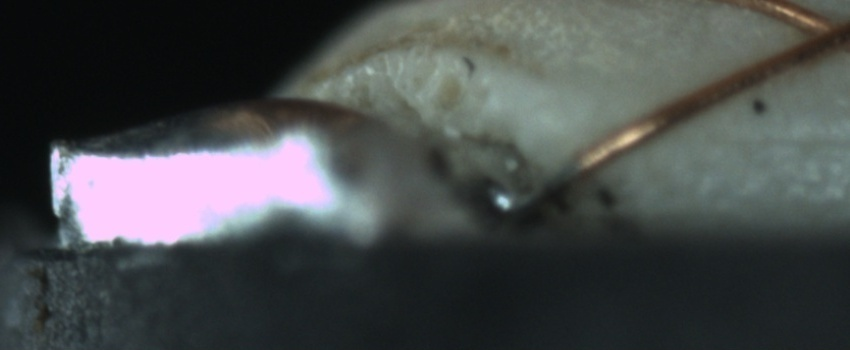CL: (775, 1, 850, 64)
DL: (690, 107, 849, 169)
TS: (491, 162, 570, 217)
